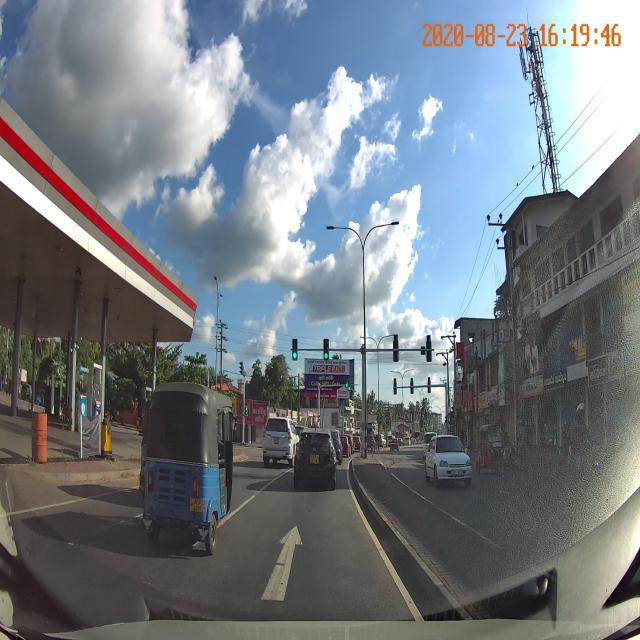forward: (149, 517, 421, 614)
